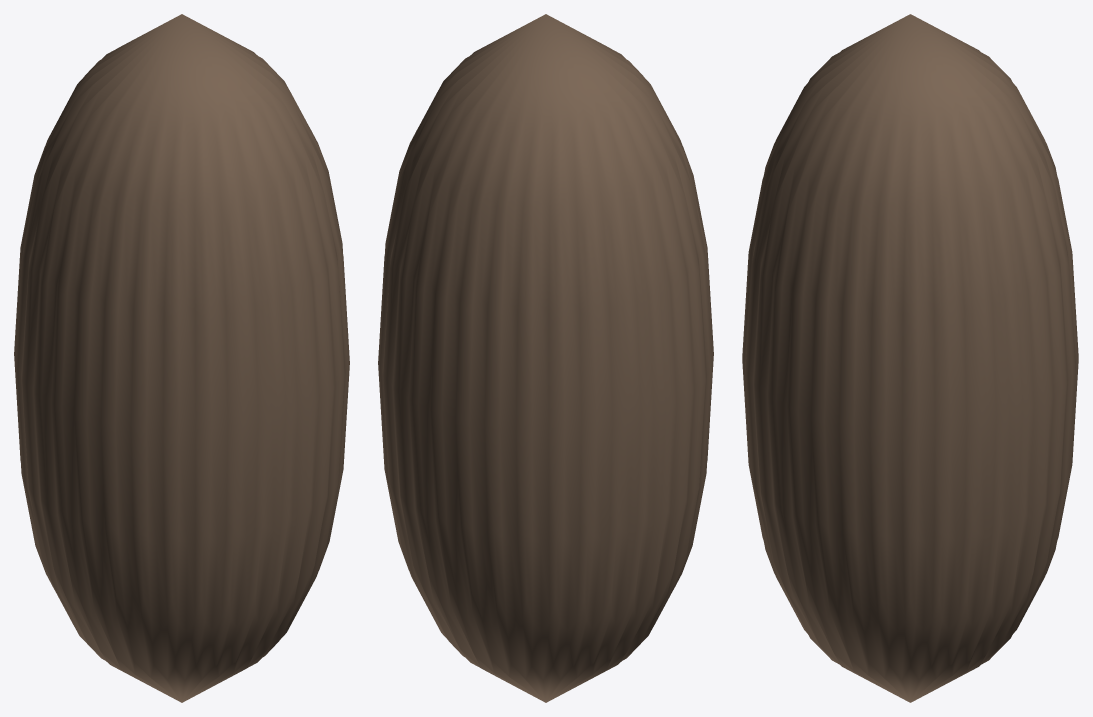
Rendered from outfit_trenchcoat.glb.
3 views of the same model, side by side, from view 1: azimuth 30°, elevation 25°; view 2: azimuth 150°, elevation 25°; view 3: azimuth 270°, elevation 25° (orthographic).
Visible parts, largest first — view 1: Cylinder; view 2: Cylinder; view 3: Cylinder.
Boxes of the visible parts, left/top/right/bottom form: Cylinder: left=14, top=14, right=349, bottom=702; Cylinder: left=378, top=14, right=713, bottom=702; Cylinder: left=742, top=14, right=1078, bottom=702.
Size of the model in its own units: 0.4893 by 1.11 by 0.4893.
